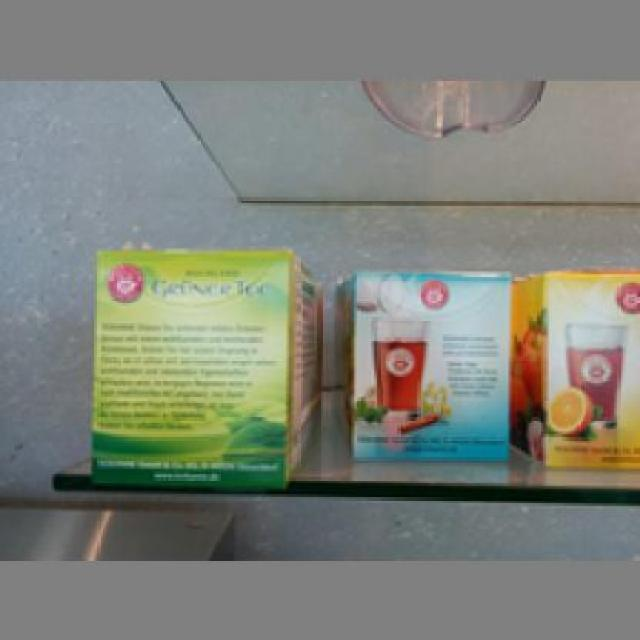Tea: (92, 243, 314, 492), (340, 265, 511, 458), (520, 266, 637, 472)
